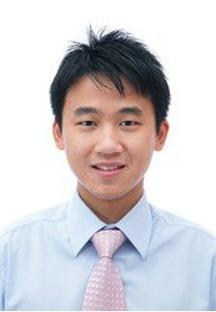Sober: (62, 79, 155, 197)
